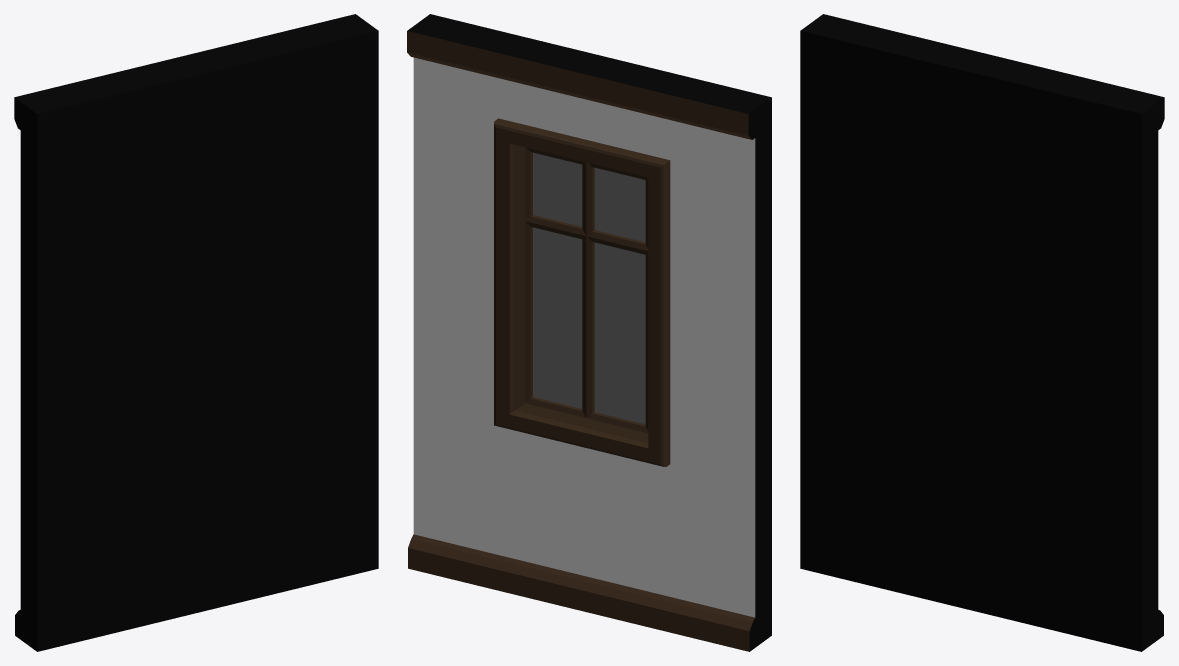
Rendered from Wall_Window_1_V2.fbx.
The picture shows the model from 3 angles, left to right: view 1: azimuth 30°, elevation 25°; view 2: azimuth 150°, elevation 25°; view 3: azimuth 330°, elevation 25°; orthographic projection.
Visible parts, largest first — view 1: Cube.171; view 2: Cube.171, Cube.187; view 3: Cube.171.
Boxes of the visible parts, bbox=[...] form: Cube.171: bbox=[14, 14, 378, 651]; Cube.171: bbox=[407, 14, 771, 651]; Cube.187: bbox=[494, 118, 670, 466]; Cube.171: bbox=[800, 14, 1164, 651].
Size of the model in its own units: 0.2334 by 2 by 3.01.
